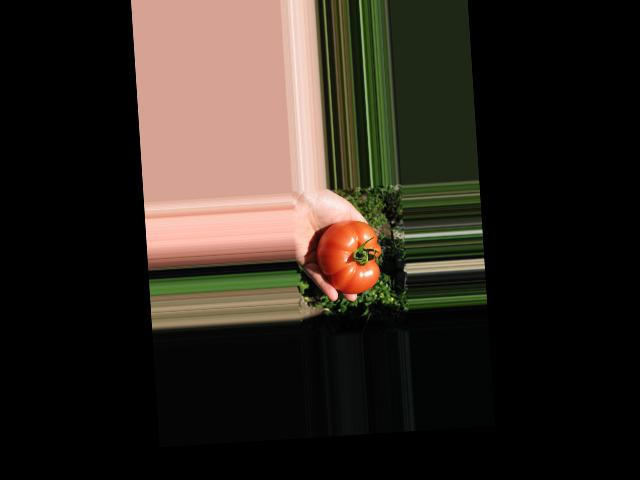tomato: (315, 219, 383, 296)
